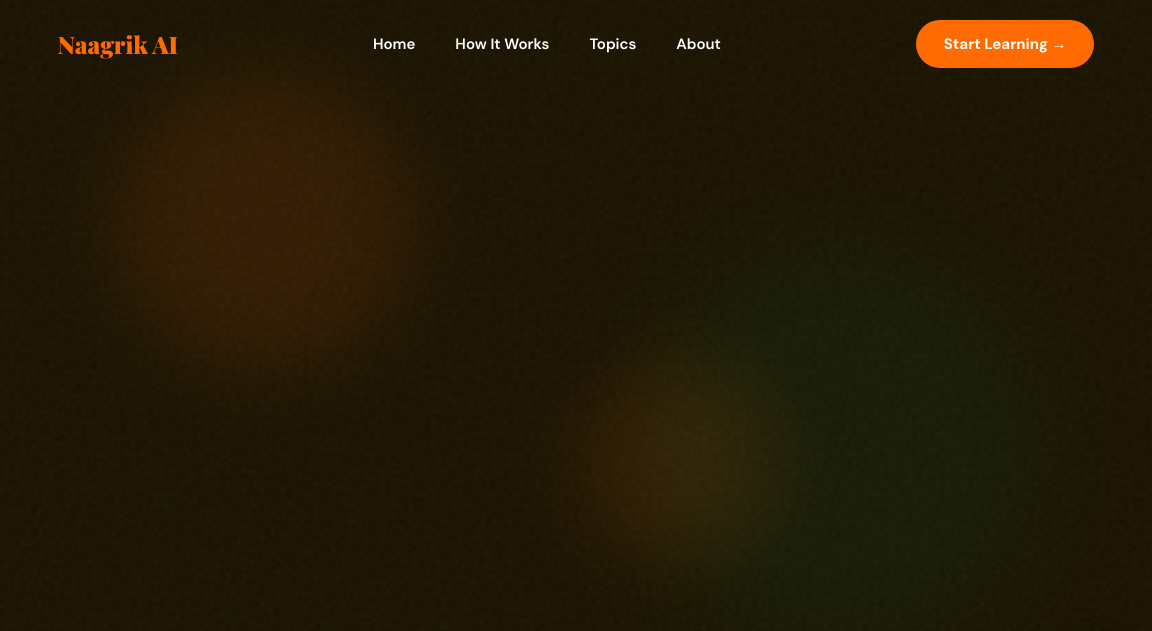
Test: navigates to dashboard on button click
This screenshot has width=1152, height=631.
# Wait for lazy-loaded Landing to appear
Click the button "Start Learning →": (1005, 44) [916, 20, 1094, 68]
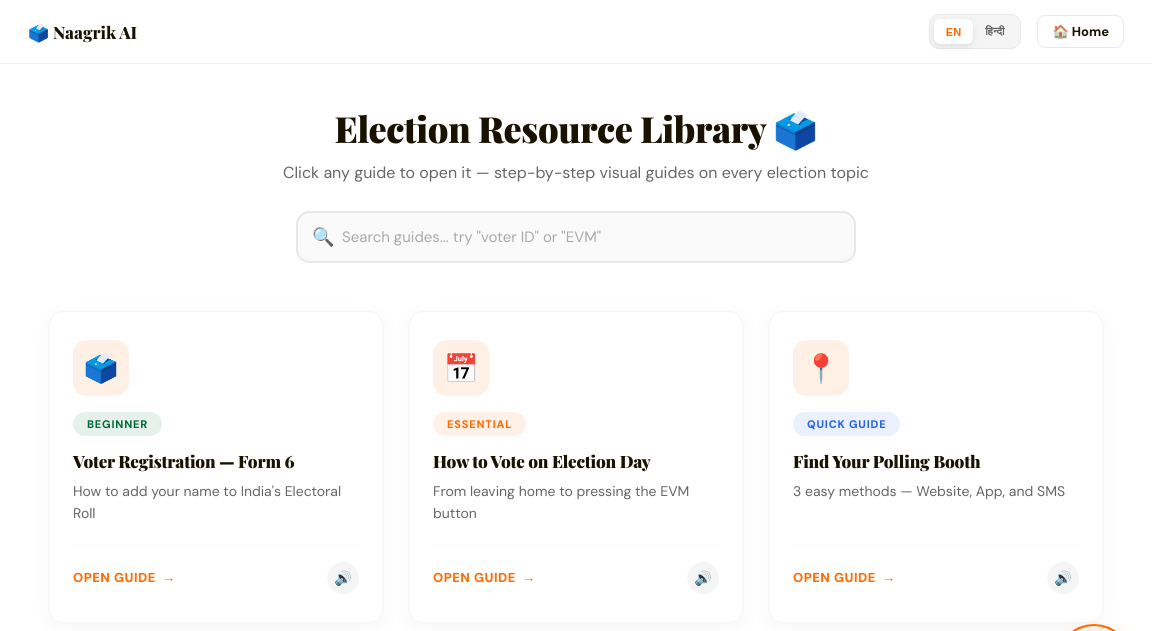
Expected: the heading "Election Resource Library 🗳️" is shown, [334, 104, 818, 152]
